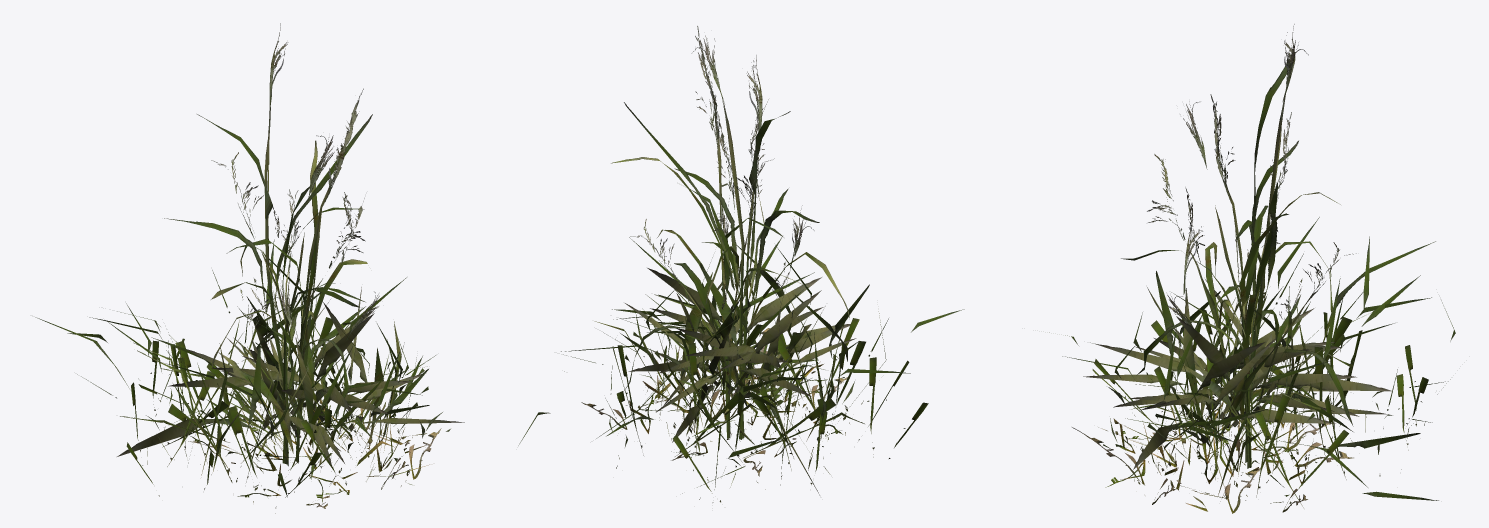
The model's file is herbe.glb.
3 renders of one model, left to right at view 1: azimuth 30°, elevation 25°; view 2: azimuth 150°, elevation 25°; view 3: azimuth 270°, elevation 25°, orthographic. The views are drawn at different scales.
Parts seen in each view (by area): view 1: grass_medium_01_large_a_LOD0, grass_medium_01_mid_a_LOD0, grass_medium_01_tall_b_LOD0, grass_medium_01_tall_a_LOD0, grass_medium_01_large_c_LOD0; view 2: grass_medium_01_large_a_LOD0, grass_medium_01_mid_a_LOD0, grass_medium_01_tall_a_LOD0, grass_medium_01_tall_b_LOD0, grass_medium_01_large_c_LOD0; view 3: grass_medium_01_mid_a_LOD0, grass_medium_01_large_a_LOD0, grass_medium_01_large_c_LOD0, grass_medium_01_tall_b_LOD0, grass_medium_01_tall_a_LOD0.
Boxes of the visible parts, x1,y1,x2,y2 form: grass_medium_01_large_a_LOD0: (35,239,435,513); grass_medium_01_mid_a_LOD0: (117,198,464,479); grass_medium_01_tall_b_LOD0: (211,88,367,463); grass_medium_01_tall_a_LOD0: (164,23,372,466); grass_medium_01_large_c_LOD0: (151,322,450,508); grass_medium_01_large_a_LOD0: (518,237,964,502); grass_medium_01_mid_a_LOD0: (625,114,856,495); grass_medium_01_tall_a_LOD0: (623,35,819,439); grass_medium_01_tall_b_LOD0: (611,26,849,438); grass_medium_01_large_c_LOD0: (564,237,910,476); grass_medium_01_mid_a_LOD0: (1083,187,1391,469); grass_medium_01_large_a_LOD0: (1049,217,1455,507); grass_medium_01_large_c_LOD0: (1062,289,1420,513); grass_medium_01_tall_b_LOD0: (1136,94,1340,468); grass_medium_01_tall_a_LOD0: (1121,24,1356,462).
Size of the model in its own units: 0.2755 by 0.3225 by 0.3019.
Materials: 1 (1 with a texture image).
